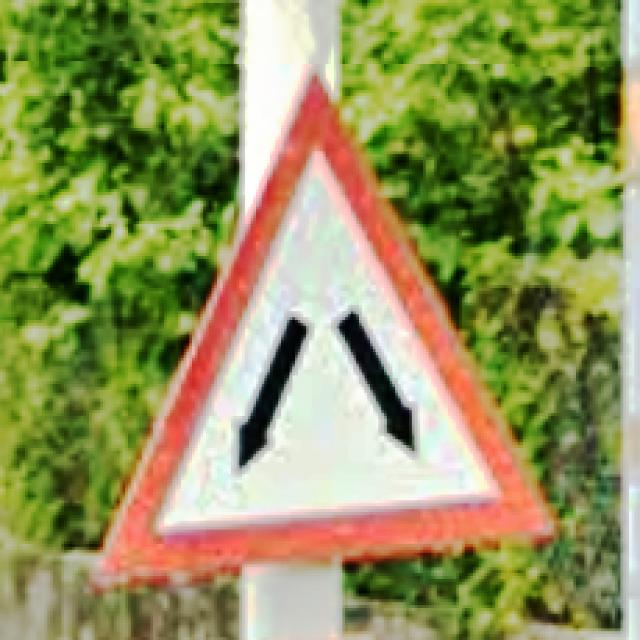diverge: (97, 70, 557, 591)
